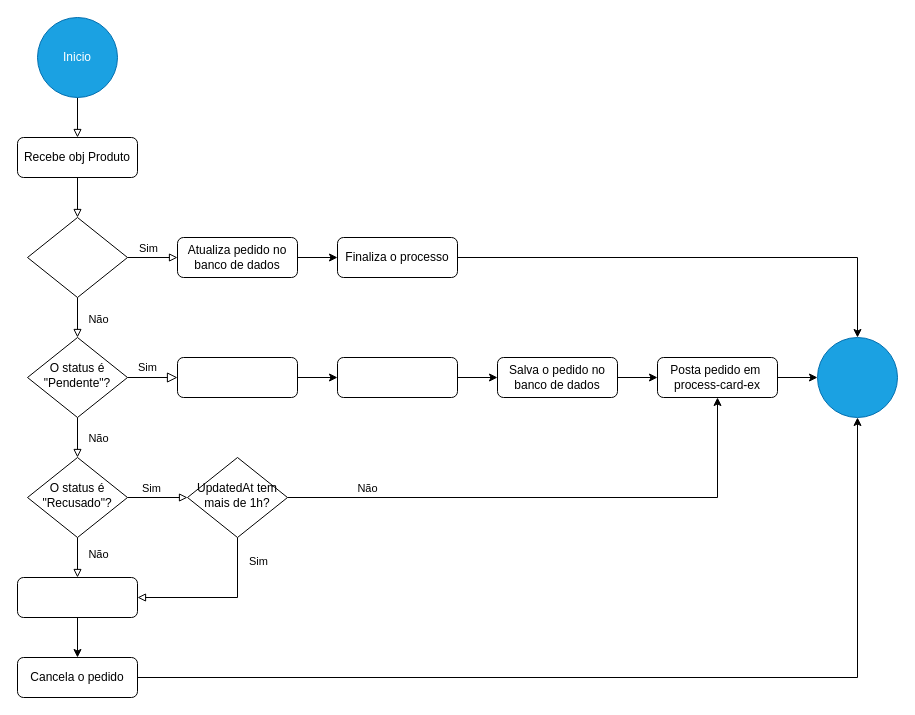
This 915x715 diagram has some shape labels left out. The shapes that lost their labels are listed below. From the top down, each one's centre as x and y in pixels, then its label:
point 77,257: O status é "Aprovado"?
point 237,377: Cria o UUID do pedido
point 397,377: Adicionar no pedido informações do produto
point 857,377: Fim
point 77,597: Salva no banco de dados
